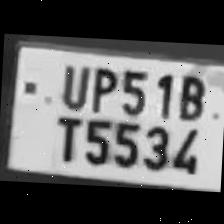1: (146, 67, 176, 118)
3: (138, 118, 172, 169)
4: (167, 119, 202, 174)
5: (113, 61, 150, 115), (78, 113, 112, 164), (108, 115, 140, 166)
B: (172, 66, 206, 120)
P: (86, 60, 118, 111)
T: (46, 108, 83, 162)
U: (52, 57, 89, 109)
